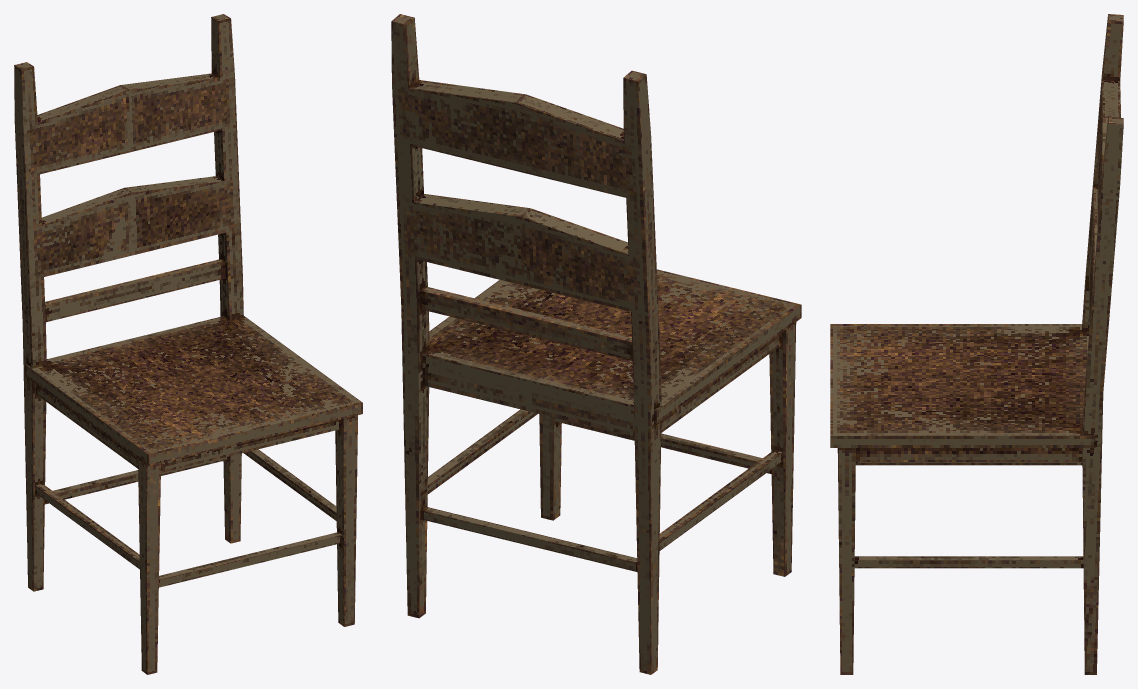
File: Chair00.glb
The picture shows the model from 3 angles, left to right: view 1: azimuth 30°, elevation 25°; view 2: azimuth 150°, elevation 25°; view 3: azimuth 270°, elevation 25°; orthographic projection. The views are drawn at different scales.
Parts seen in each view (by area): view 1: Chair00; view 2: Chair00; view 3: Chair00.
Part boxes in pixels (<box>): Chair00: <box>14,14,362,674</box>; Chair00: <box>391,14,801,674</box>; Chair00: <box>830,14,1123,674</box>.
Bounding box in the file's own units: 0.4346 × 0.9984 × 0.4813.
1 material, 1 textured.
